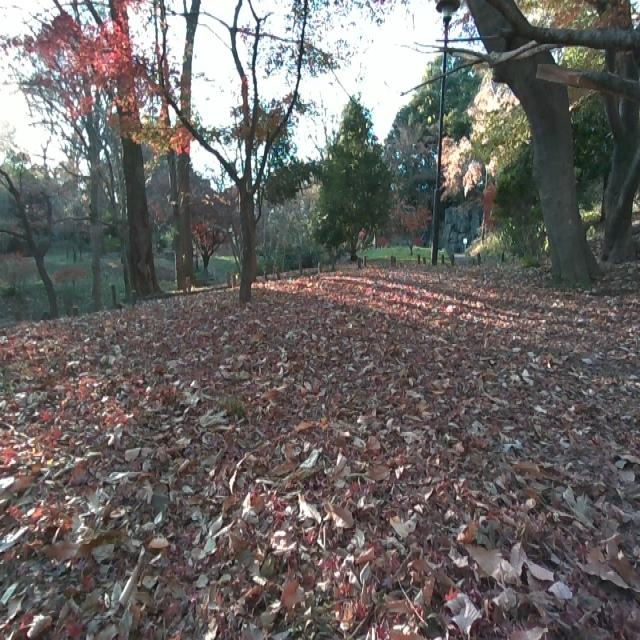bush: (412, 0, 466, 284)
tree: (175, 0, 314, 288), (470, 1, 598, 294), (81, 0, 170, 299), (578, 0, 640, 287), (148, 0, 204, 300), (0, 161, 68, 311), (338, 97, 370, 271)
